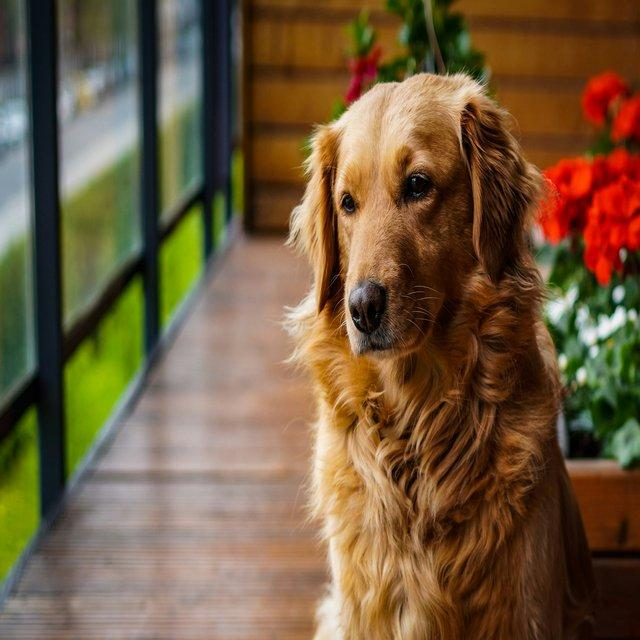retriever: (279, 69, 598, 638)
